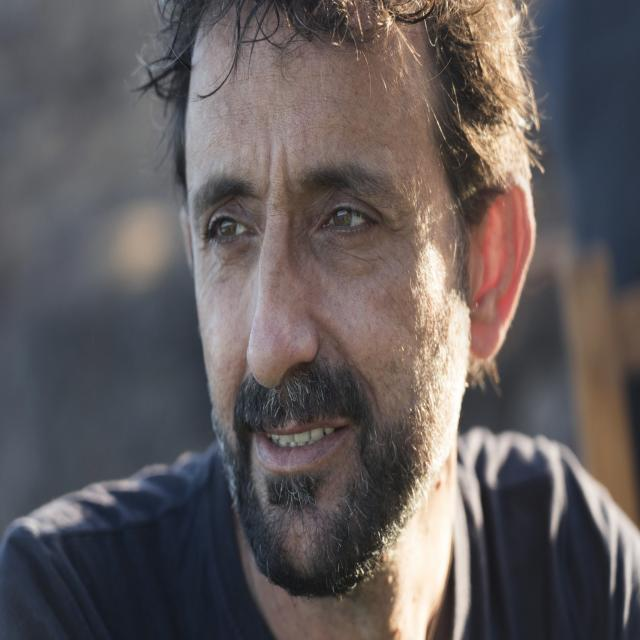adult: (19, 0, 614, 640)
